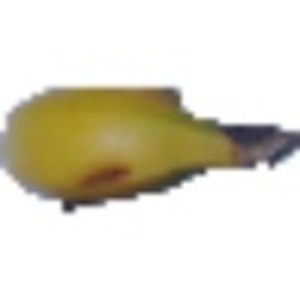banana: (1, 75, 290, 207)
